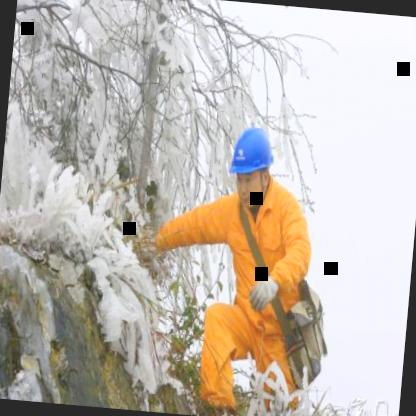helmet: (222, 116, 282, 216)
